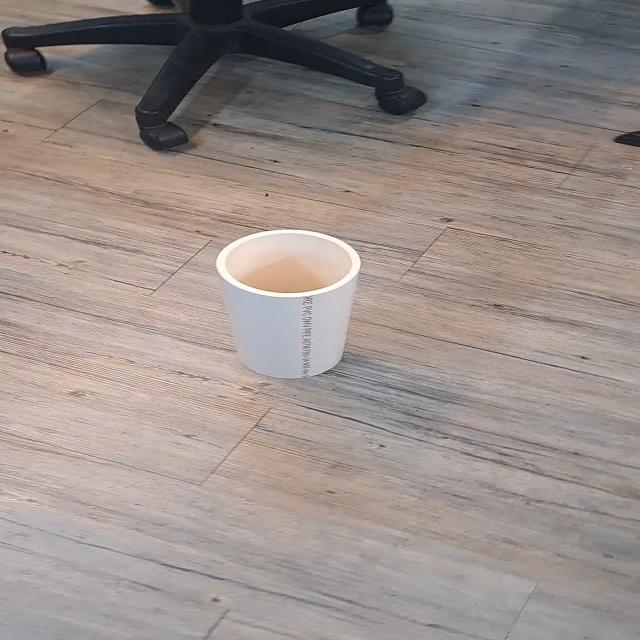CORAL: (205, 217, 383, 393)
